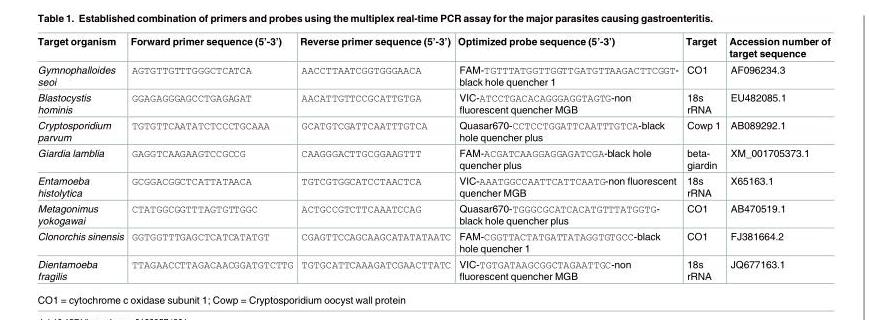table: (37, 36, 830, 281)
table column: (454, 36, 682, 281), (127, 36, 296, 281), (296, 36, 454, 281), (725, 36, 830, 281), (37, 36, 127, 281), (682, 36, 725, 281)
table column header: (37, 36, 830, 61)
table row: (37, 61, 830, 89), (37, 89, 830, 117), (37, 117, 830, 145), (37, 172, 830, 200), (37, 200, 830, 228), (37, 228, 830, 256), (37, 145, 830, 172), (37, 36, 830, 61), (37, 256, 830, 281)
